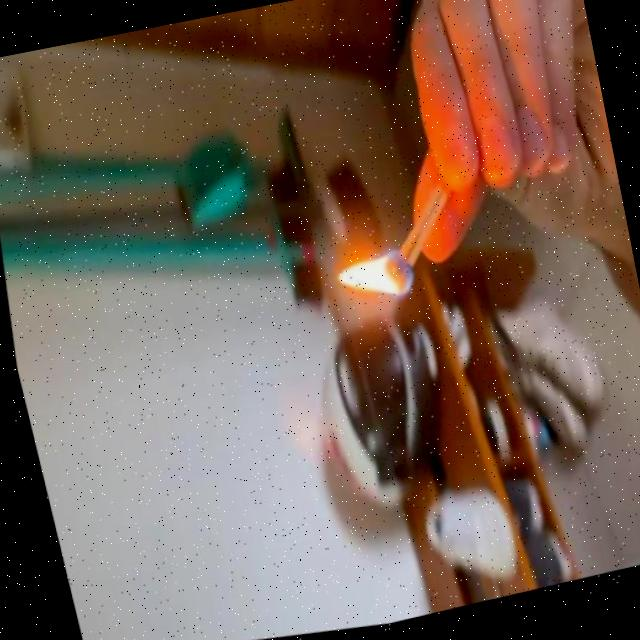fire: (324, 241, 420, 316)
